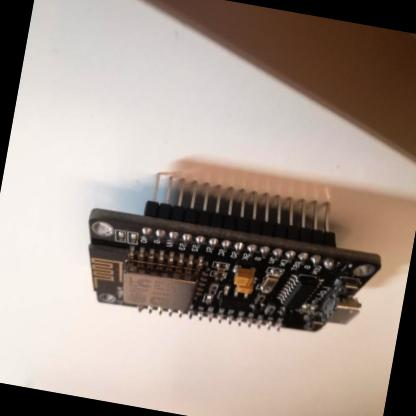ESP8266: (69, 155, 398, 361)
